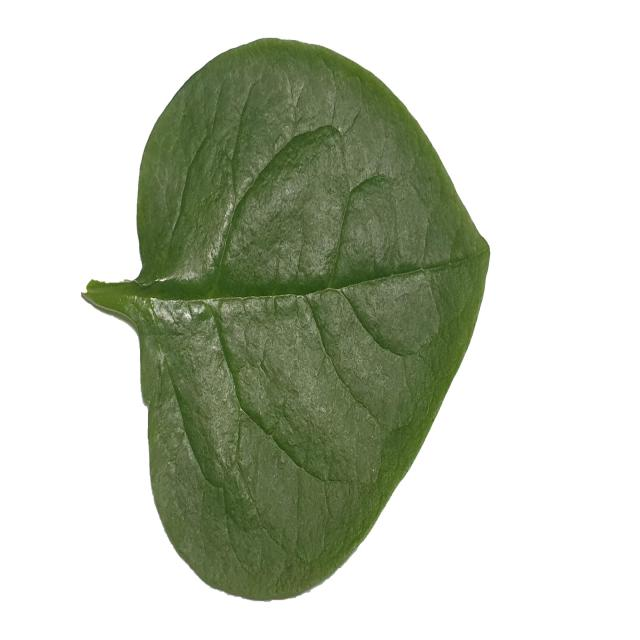Medicinal-Basale: (80, 38, 490, 602)
